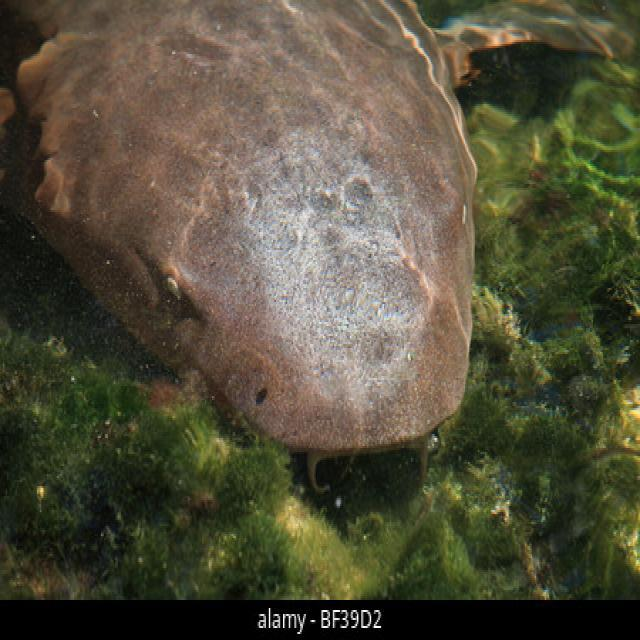Shark: (5, 0, 512, 466)
